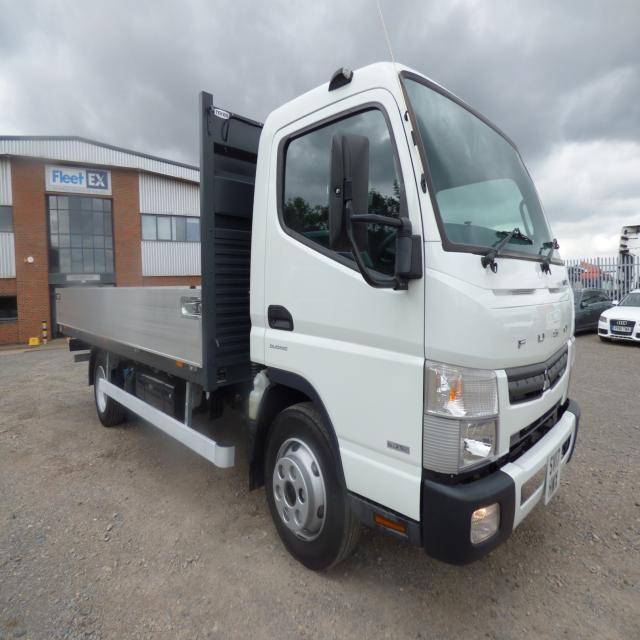truck: (51, 56, 580, 564)
